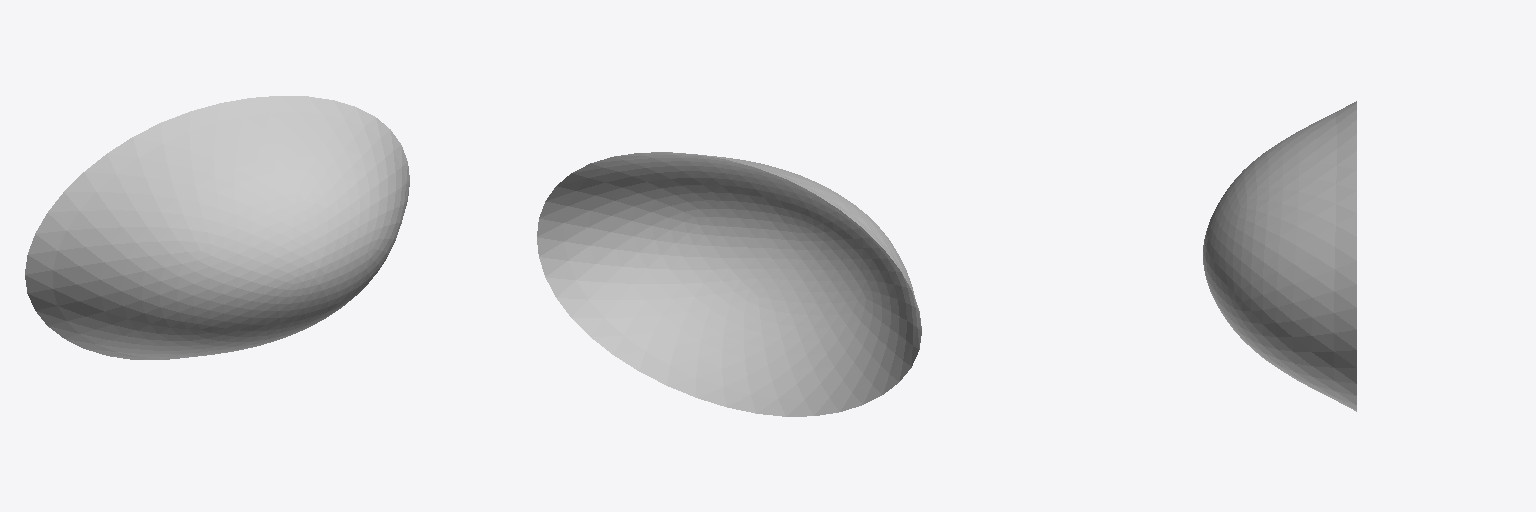
Rendered from dome_obl_opt_start.obj.
3 views of the same model, side by side, from view 1: azimuth 30°, elevation 25°; view 2: azimuth 150°, elevation 25°; view 3: azimuth 270°, elevation 25° (orthographic).
Parts seen in each view (by area): view 1: samples/dome_obl_opt_start; view 2: samples/dome_obl_opt_start; view 3: samples/dome_obl_opt_start.
Part boxes in pixels (bbox=[...]): samples/dome_obl_opt_start: bbox=[25, 96, 409, 359]; samples/dome_obl_opt_start: bbox=[537, 152, 921, 416]; samples/dome_obl_opt_start: bbox=[1203, 101, 1356, 411].
Bounding box in the file's own units: 16.28 × 10 × 5.64.